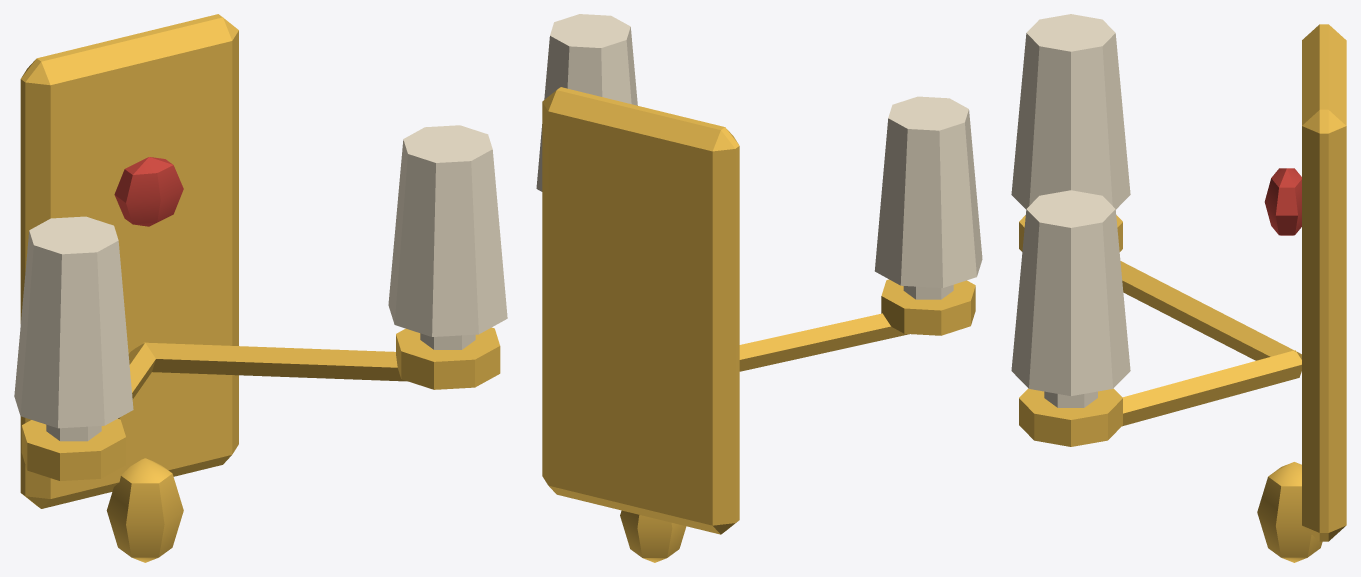
Rendered from PR_Tier_AltinAplik.fbx.
3 renders of one model, left to right at view 1: azimuth 30°, elevation 25°; view 2: azimuth 150°, elevation 25°; view 3: azimuth 270°, elevation 25°, orthographic. The views are drawn at different scales.
Parts seen in each view (by area): view 1: PR_Tier_AltinAplik; view 2: PR_Tier_AltinAplik; view 3: PR_Tier_AltinAplik.
Part boxes in pixels (<box>): PR_Tier_AltinAplik: <box>14,14,507,562</box>; PR_Tier_AltinAplik: <box>536,14,982,562</box>; PR_Tier_AltinAplik: <box>1011,14,1346,562</box>.
Bounding box in the file's own units: 0.36 × 0.3675 × 0.225.
